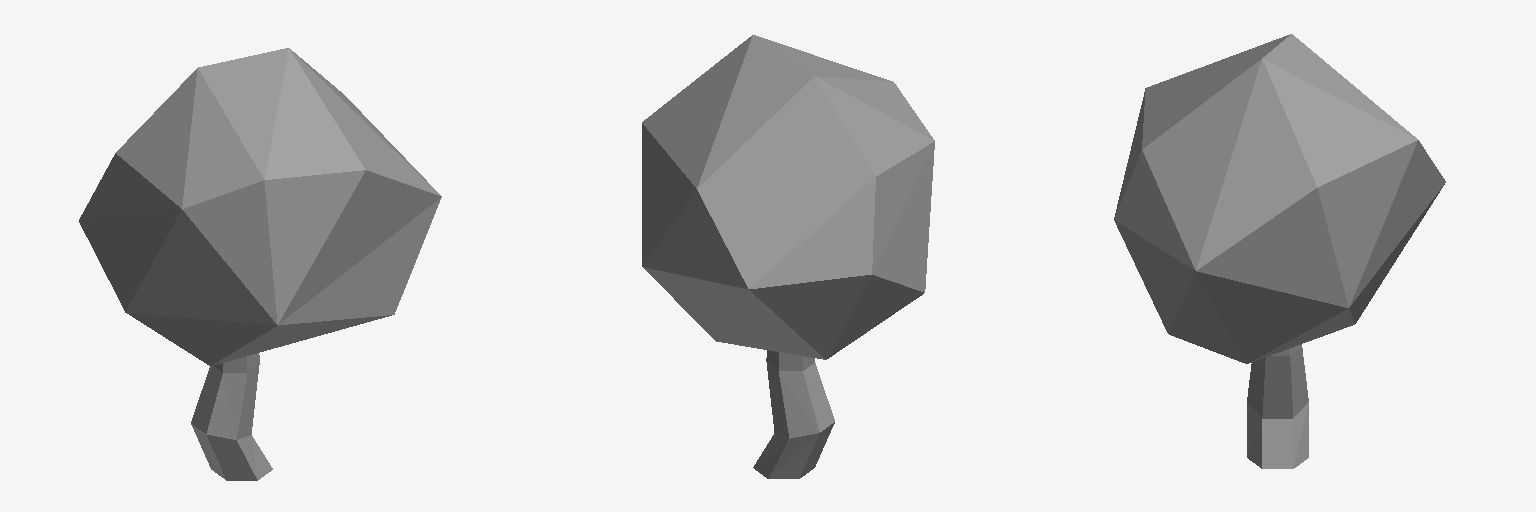
File: Bush1.obj
3 views of the same model, side by side, from view 1: azimuth 30°, elevation 25°; view 2: azimuth 150°, elevation 25°; view 3: azimuth 270°, elevation 25° (orthographic).
Visible parts, largest first — view 1: Icosphere; view 2: Icosphere; view 3: Icosphere.
Boxes of the visible parts, x1,y1,x2,y2 form: Icosphere: [79, 48, 441, 480]; Icosphere: [642, 35, 934, 478]; Icosphere: [1114, 34, 1445, 468].
Size of the model in its own units: 1.07 by 1.49 by 1.07.